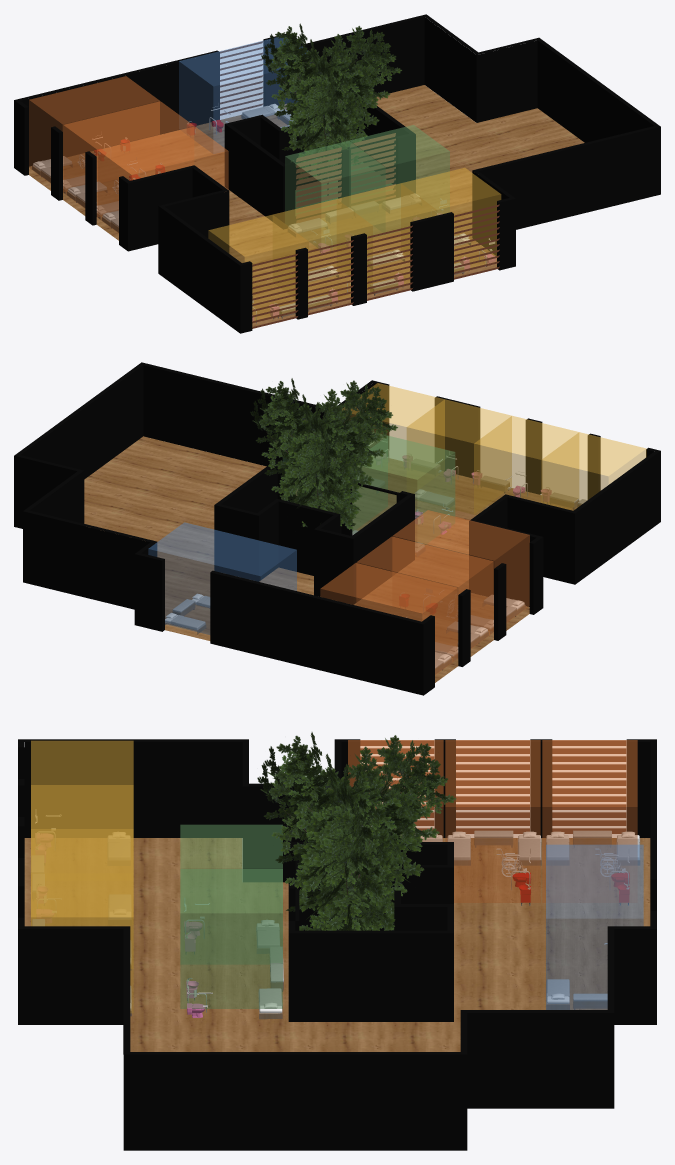
File: carehome.glb
The picture shows the model from 3 angles, top to bottom: view 1: azimuth 30°, elevation 25°; view 2: azimuth 150°, elevation 25°; view 3: azimuth 270°, elevation 25°; orthographic projection. The views are drawn at different scales.
Visible parts, largest first — view 1: object 133, FLOOR, ROOM B3, object 132, object 139, c1d63656-302f-4487-a81e-8cfc84d3f437, object 233, ROOM B2, ROOM C1, ROOM D2, ROOM D1, ROOM A3 (+10 smaller); view 2: object 133, FLOOR, object 132, object 233, object 139, c1d63656-302f-4487-a81e-8cfc84d3f437, ROOM B2, ROOM A2, ROOM B1, ROOM C1, ROOM A3, ROOM D2 (+9 smaller); view 3: object 133, FLOOR, object 139, c1d63656-302f-4487-a81e-8cfc84d3f437, ROOM B3, object 233, ROOM B2, ROOM D1, ROOM D2, ROOM C1, ROOM A2, ROOM A4 (+6 smaller).
Boxes of the visible parts, x1,y1,x2,y2 form: object 133: (263,14,660,270); FLOOR: (29,85,584,327); ROOM B3: (29,41,499,328); object 132: (14,50,219,175); object 139: (119,165,252,333); c1d63656-302f-4487-a81e-8cfc84d3f437: (261,23,401,180); object 233: (224,96,415,229); ROOM B2: (63,101,193,217); ROOM C1: (179,37,307,153); ROOM D2: (285,140,385,250); ROOM D1: (349,125,449,234); ROOM A3: (273,199,372,307); object 133: (14,362,389,631); FLOOR: (84,436,577,682); object 132: (210,570,434,695); object 233: (214,460,414,604); object 139: (469,447,660,614); c1d63656-302f-4487-a81e-8cfc84d3f437: (250,378,397,529); ROOM B2: (356,536,493,657); ROOM A2: (406,399,511,514); ROOM B1: (392,510,529,631); ROOM C1: (148,522,296,634); ROOM A3: (474,416,578,515); ROOM D2: (352,435,455,544); object 133: (18,911,656,1150); FLOOR: (24,838,650,1051); object 139: (18,739,360,882); c1d63656-302f-4487-a81e-8cfc84d3f437: (257,732,456,930); ROOM B3: (360,740,637,902); object 233: (288,842,453,1021); ROOM B2: (445,740,540,902); ROOM D1: (180,869,282,1008); ROOM D2: (180,824,282,964); ROOM C1: (546,844,643,1009); ROOM A2: (31,829,133,968); ROOM A4: (31,740,133,828).
Bounding box in the file's own units: 28.4 × 9.92 × 24.48.
27 materials, 13 textured.
